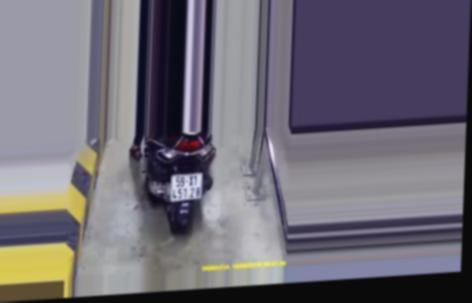License_Plate: (166, 170, 206, 203)
